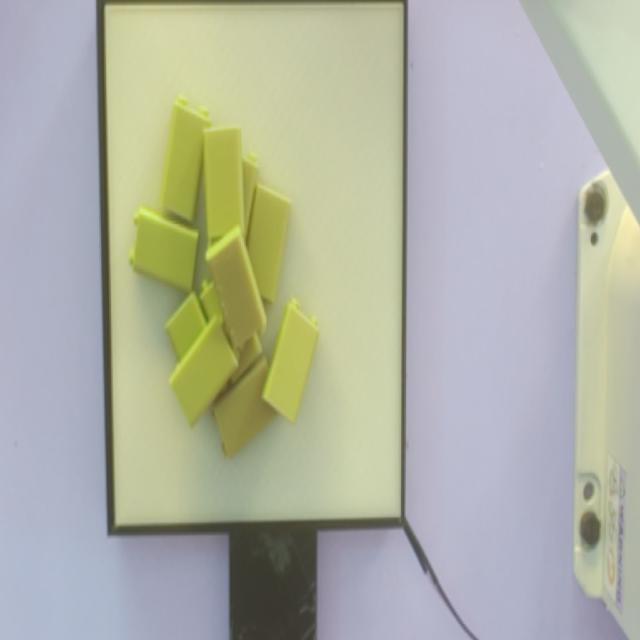bateria: (168, 314, 239, 428), (205, 223, 267, 352), (262, 298, 319, 425), (128, 207, 198, 293)
mesa: (97, 0, 407, 536)
